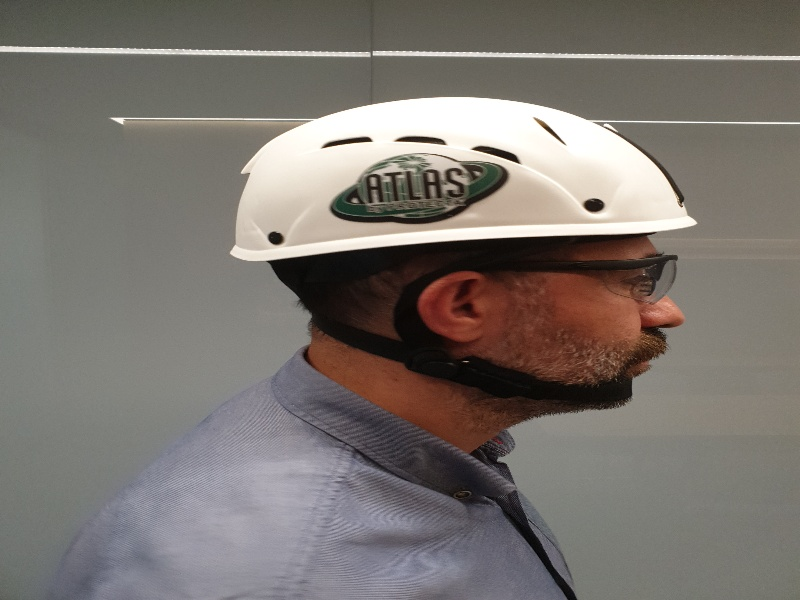Baret: (228, 97, 701, 244)
Gozluk: (470, 252, 679, 296)
